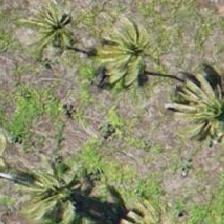coconut_tree: (95, 20, 185, 110), (26, 147, 116, 223), (2, 0, 92, 66)
